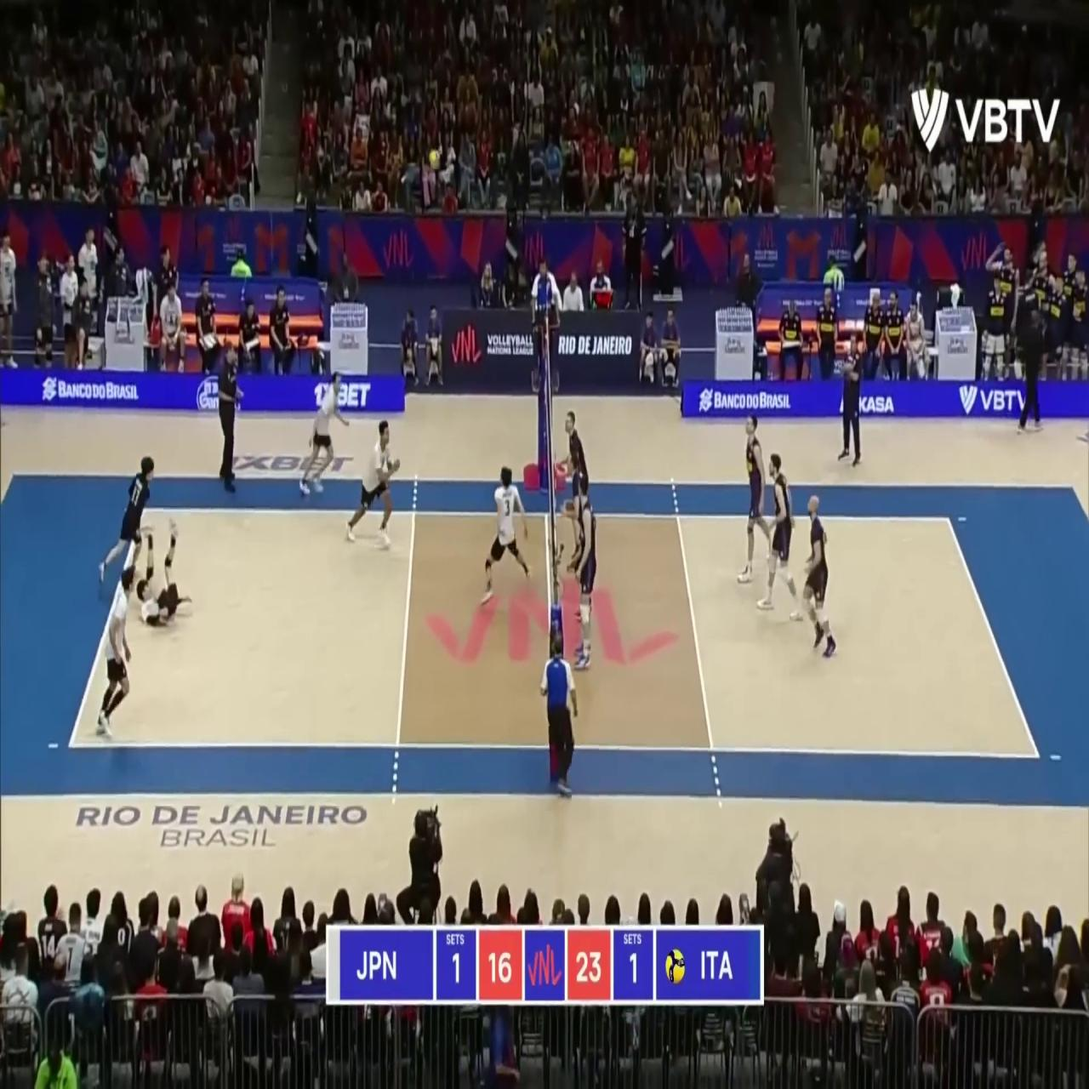ball: (429, 151, 439, 168)
